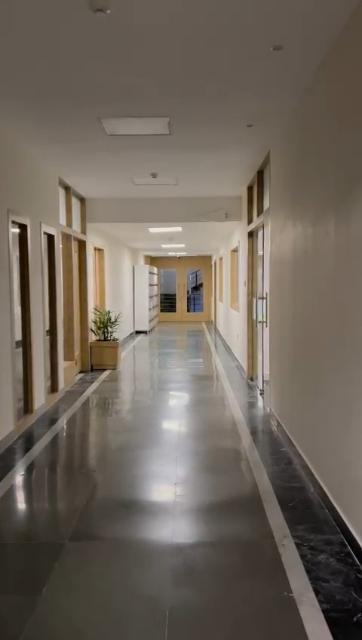door: (62, 230, 88, 370), (163, 258, 211, 320), (252, 222, 266, 382)
floor: (2, 319, 358, 640)
object: (86, 297, 126, 373)
wall: (269, 19, 362, 536), (2, 137, 54, 207), (109, 242, 140, 334), (240, 230, 246, 362), (222, 245, 230, 331)
